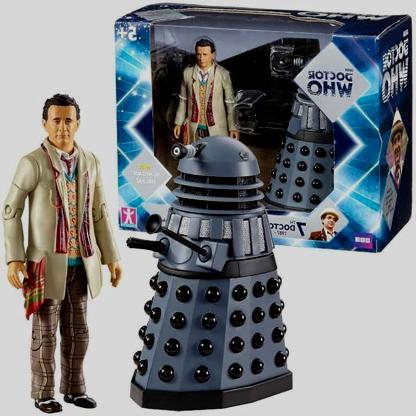dalek: (126, 111, 296, 414)
person: (1, 80, 127, 415)
